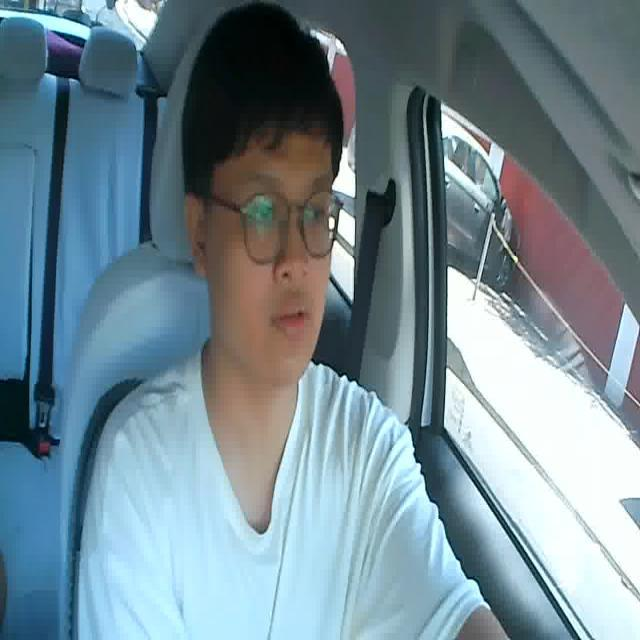Attentive: (180, 5, 353, 384)
Eye-Open: (252, 203, 277, 226), (306, 204, 328, 226)
Normal: (274, 302, 313, 338)
